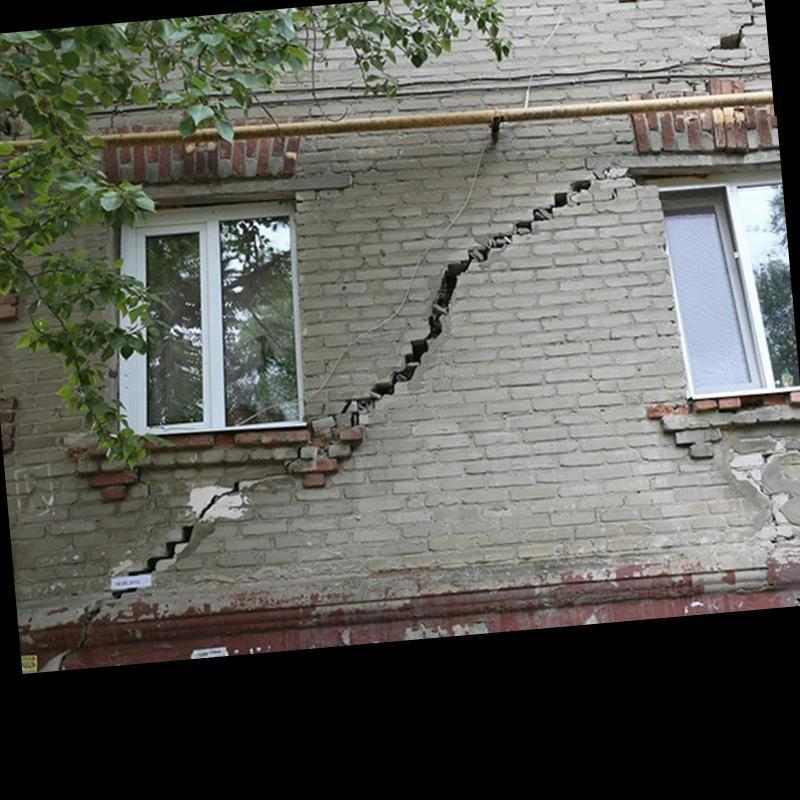crack: (340, 180, 592, 413), (199, 441, 308, 519), (128, 525, 195, 576), (56, 607, 100, 674), (707, 10, 757, 53), (134, 465, 152, 500), (111, 587, 137, 599), (349, 410, 360, 428), (745, 0, 765, 9)
